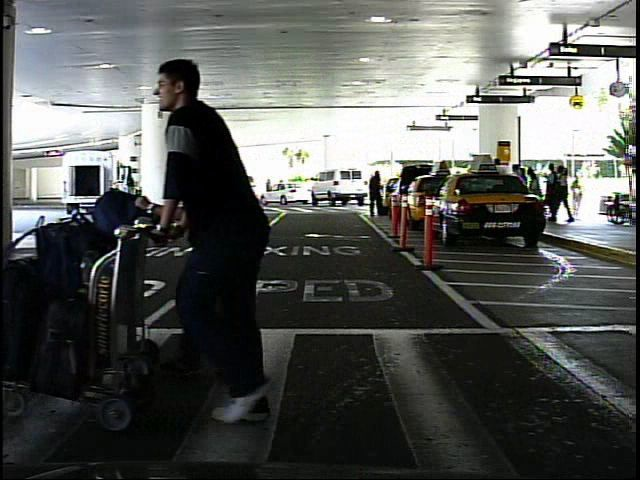person: (155, 44, 305, 423), (366, 168, 388, 224), (112, 170, 130, 213), (571, 172, 586, 219)
